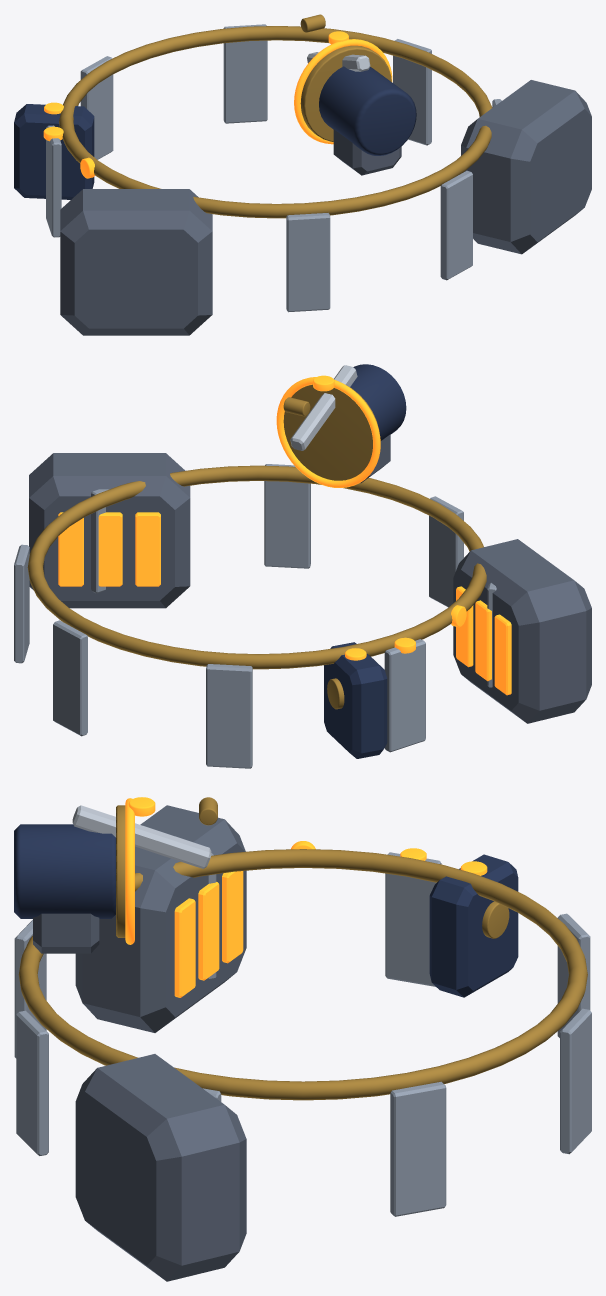
The model's file is tower_overclock_efficiency_s8.glb.
3 renders of one model, top to bottom at view 1: azimuth 30°, elevation 25°; view 2: azimuth 150°, elevation 25°; view 3: azimuth 270°, elevation 25°, orthographic. The views are drawn at different scales.
Visible parts, largest first — view 1: overclock_battery_b, overclock_battery, overclock_coolant_loop, overclock_governor, overclock_regulator, overclock_base_fin6, overclock_base_fin2, overclock_base_fin5, overclock_governor_wheel, overclock_base_fin3, overclock_base_fin1, overclock_base_fin0 (+3 smaller); view 2: overclock_battery_b, overclock_battery, overclock_coolant_loop, overclock_regulator, overclock_governor_wheel, overclock_base_fin1, overclock_base_fin5, overclock_base_fin0, overclock_base_fin2, overclock_base_fin6, overclock_governor, overclock_governor_glow (+9 smaller); view 3: overclock_battery, overclock_coolant_loop, overclock_battery_b, overclock_governor, overclock_regulator, overclock_base_fin3, overclock_base_fin0, overclock_base_fin5, overclock_base_fin2, overclock_linkage, overclock_governor_mount, overclock_battery_b_cell-0.1 (+7 smaller).
Part boxes in pixels (x1=…): overclock_battery_b: x1=60, y1=189, x2=212, y2=335; overclock_battery: x1=461, y1=80, x2=591, y2=254; overclock_coolant_loop: x1=59, y1=26, x2=492, y2=218; overclock_governor: x1=319, y1=66, x2=416, y2=155; overclock_regulator: x1=14, y1=104, x2=94, y2=199; overclock_base_fin6: x1=286, y1=213, x2=330, y2=312; overclock_base_fin2: x1=223, y1=24, x2=267, y2=123; overclock_base_fin5: x1=440, y1=170, x2=472, y2=280; overclock_governor_wheel: x1=300, y1=45, x2=391, y2=141; overclock_base_fin3: x1=393, y1=39, x2=431, y2=145; overclock_base_fin1: x1=80, y1=56, x2=113, y2=159; overclock_base_fin0: x1=46, y1=125, x2=61, y2=237; overclock_battery_b: x1=453, y1=539, x2=591, y2=723; overclock_battery: x1=29, y1=453, x2=190, y2=608; overclock_coolant_loop: x1=27, y1=465, x2=486, y2=669; overclock_regulator: x1=324, y1=642, x2=387, y2=758; overclock_governor_wheel: x1=283, y1=384, x2=379, y2=480; overclock_base_fin1: x1=206, y1=664, x2=252, y2=768; overclock_base_fin5: x1=264, y1=464, x2=310, y2=568; overclock_base_fin0: x1=384, y1=639, x2=425, y2=752; overclock_base_fin2: x1=53, y1=620, x2=87, y2=736; overclock_base_fin6: x1=429, y1=496, x2=463, y2=607; overclock_governor: x1=350, y1=364, x2=406, y2=440; overclock_governor_glow: x1=276, y1=377, x2=380, y2=487; overclock_battery: x1=75, y1=1054, x2=246, y2=1281; overclock_coolant_loop: x1=18, y1=849, x2=587, y2=1100; overclock_battery_b: x1=75, y1=805, x2=246, y2=1032; overclock_governor: x1=14, y1=824, x2=115, y2=918; overclock_regulator: x1=429, y1=854, x2=518, y2=997; overclock_base_fin3: x1=390, y1=1081, x2=446, y2=1216; overclock_base_fin0: x1=385, y1=852, x2=441, y2=986; overclock_base_fin5: x1=16, y1=1010, x2=48, y2=1155; overclock_base_fin2: x1=560, y1=1008, x2=591, y2=1154; overclock_linkage: x1=72, y1=805, x2=211, y2=868; overclock_governor_mount: x1=33, y1=913, x2=99, y2=953; overclock_battery_b_cell-0.1: x1=174, y1=898, x2=195, y2=997.
Size of the model in its own units: 1.67 by 0.7511 by 1.22.
